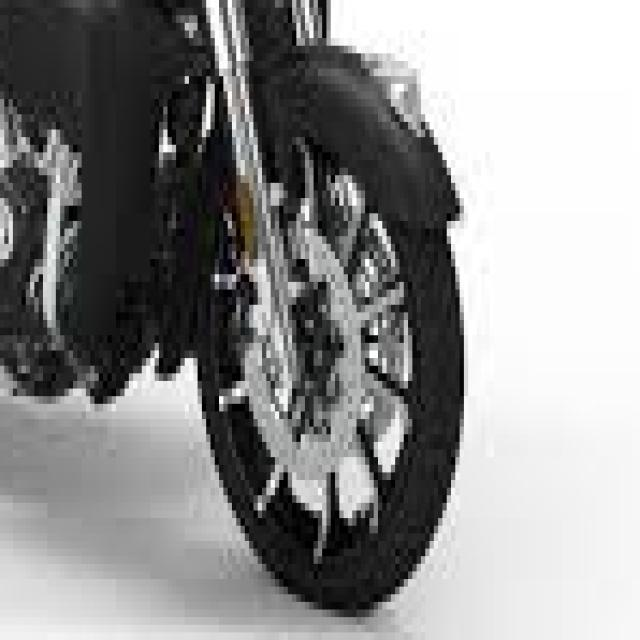bike: (0, 0, 472, 625)
